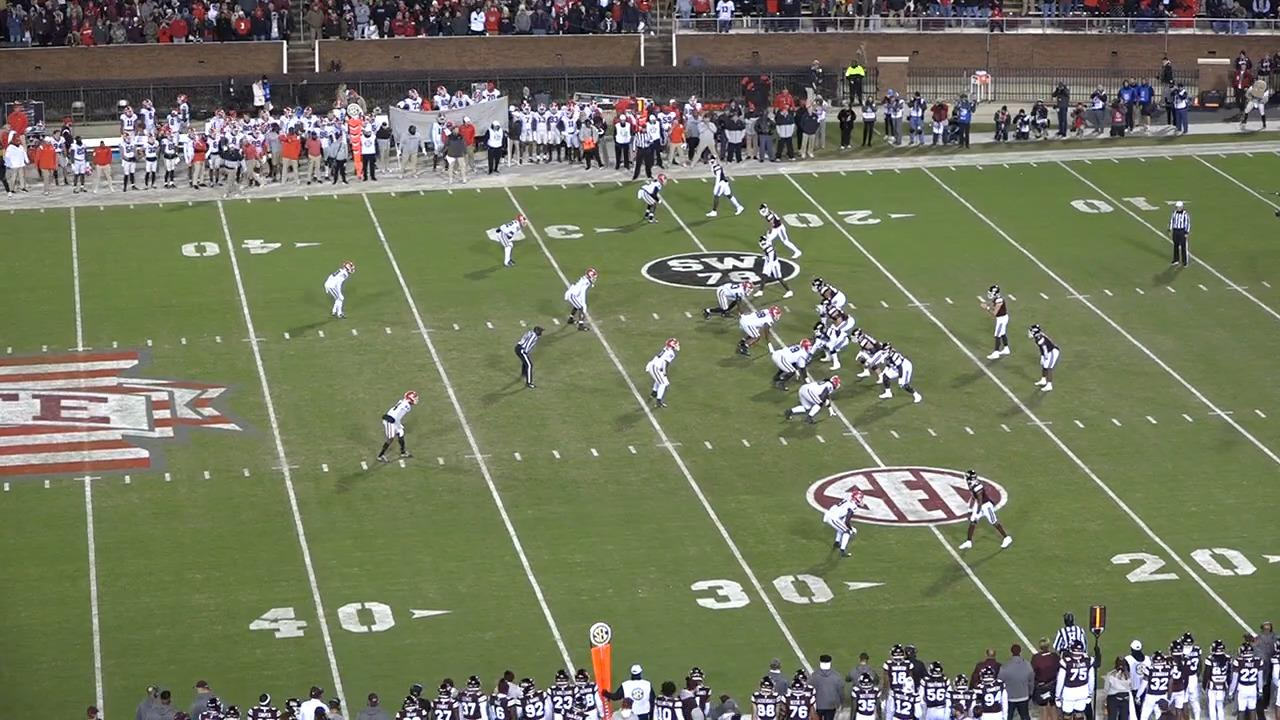player: (951, 468, 1012, 557), (375, 390, 418, 466), (878, 343, 926, 406), (820, 488, 861, 561), (786, 374, 844, 425), (748, 237, 790, 303), (758, 203, 803, 263), (978, 282, 1009, 364), (711, 159, 750, 222), (1031, 325, 1065, 397), (650, 337, 683, 411), (775, 341, 820, 394), (733, 308, 778, 359), (852, 328, 891, 386), (701, 278, 754, 320), (569, 266, 602, 332), (327, 258, 359, 320), (807, 322, 845, 372), (492, 212, 523, 267), (640, 169, 670, 224), (818, 301, 858, 334), (812, 276, 848, 307)
ref: (630, 120, 665, 181), (1165, 202, 1195, 271), (510, 326, 539, 393), (1049, 607, 1084, 658)
